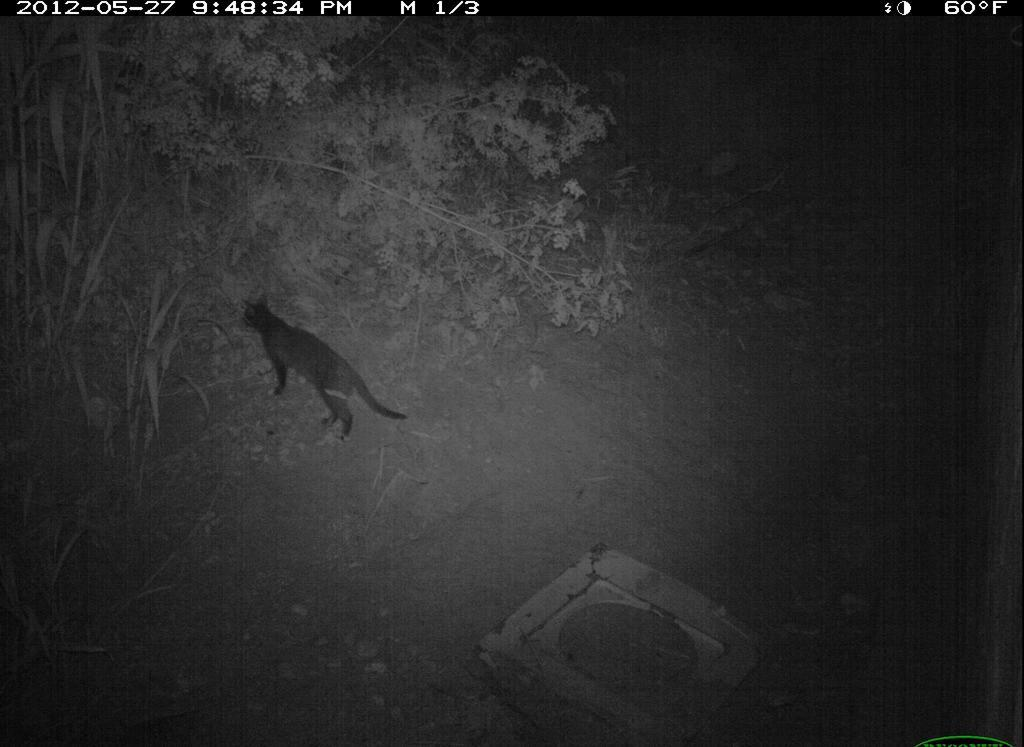cat: (240, 290, 411, 447)
